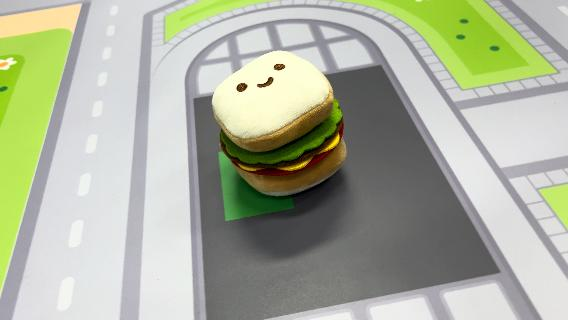sandwich: (210, 48, 350, 198)
